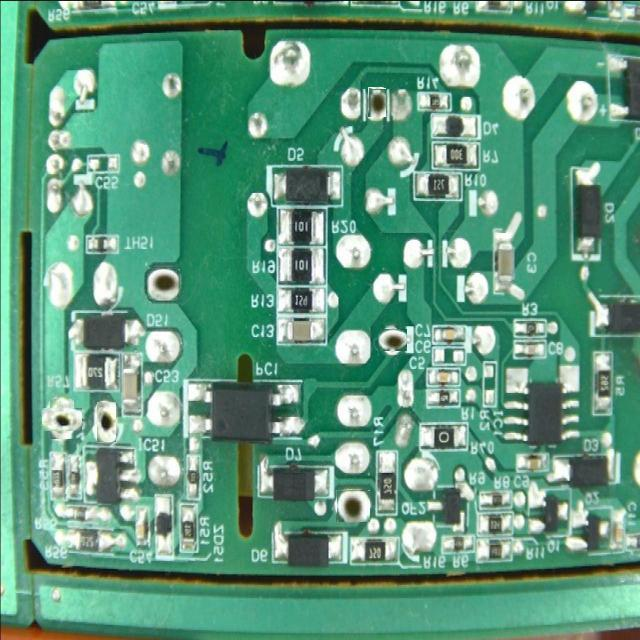damged: (336, 490, 370, 522), (46, 403, 78, 435), (147, 268, 179, 300), (96, 401, 116, 442), (379, 328, 405, 353), (368, 88, 386, 118)
